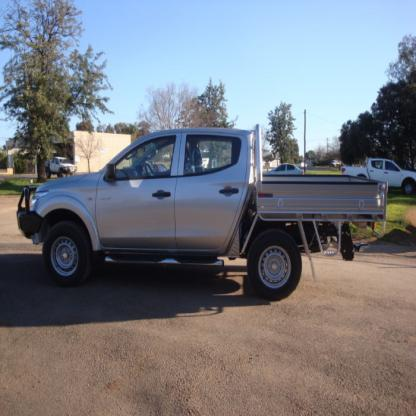light_vehicle: (14, 120, 390, 300)
